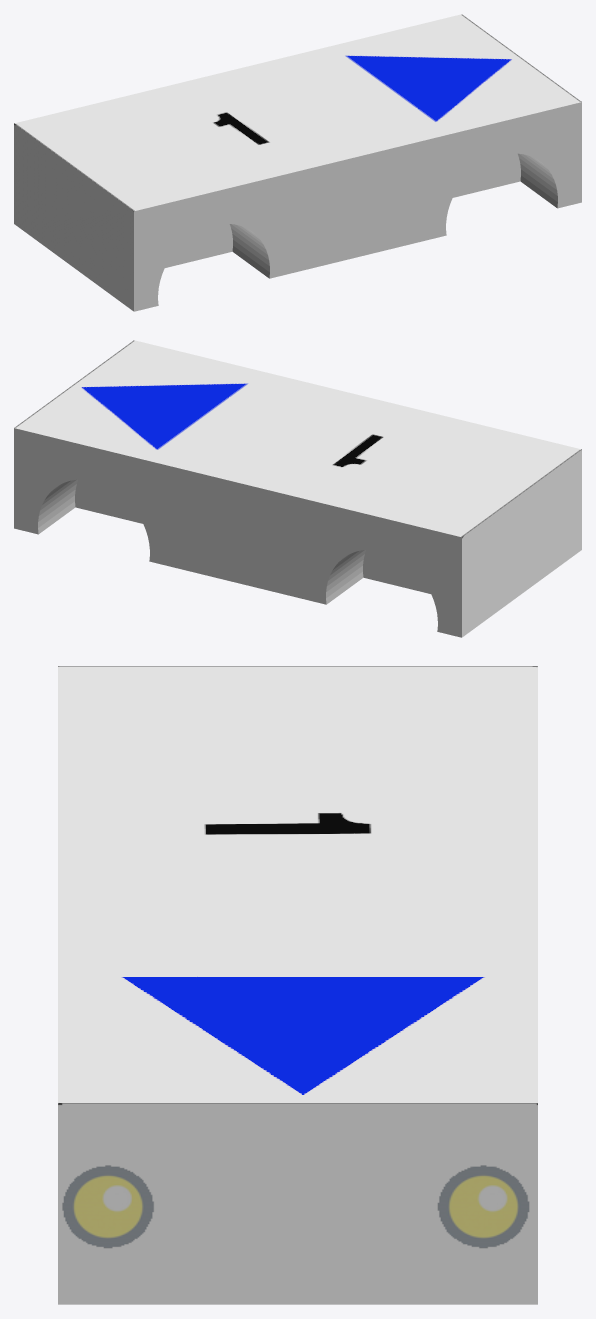
File: base_link_robot_1.dae
3 renders of one model, top to bottom at view 1: azimuth 30°, elevation 25°; view 2: azimuth 150°, elevation 25°; view 3: azimuth 270°, elevation 25°, orthographic. The views are drawn at different scales.
Parts seen in each view (by area): view 1: base_link; view 2: base_link; view 3: base_link.
Boxes of the visible parts, <box> form: base_link: <box>14,14,581,311</box>; base_link: <box>14,340,581,637</box>; base_link: <box>58,666,537,1304</box>.
Bounding box in the file's own units: 2.8 × 1.3 × 0.6.
Materials: 2 (1 with a texture image).
